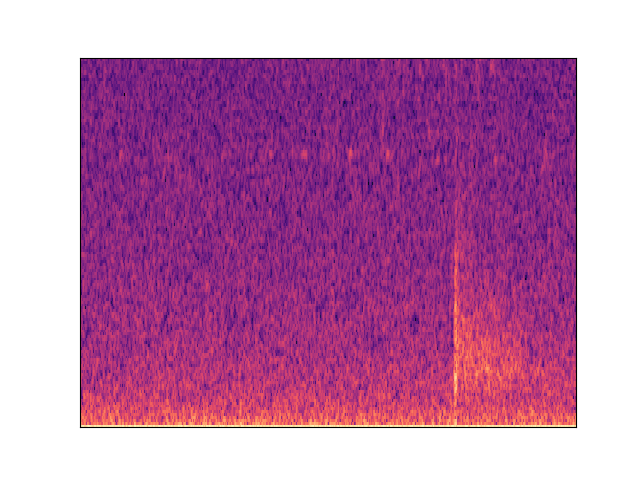gunshot: (438, 203, 553, 417)
